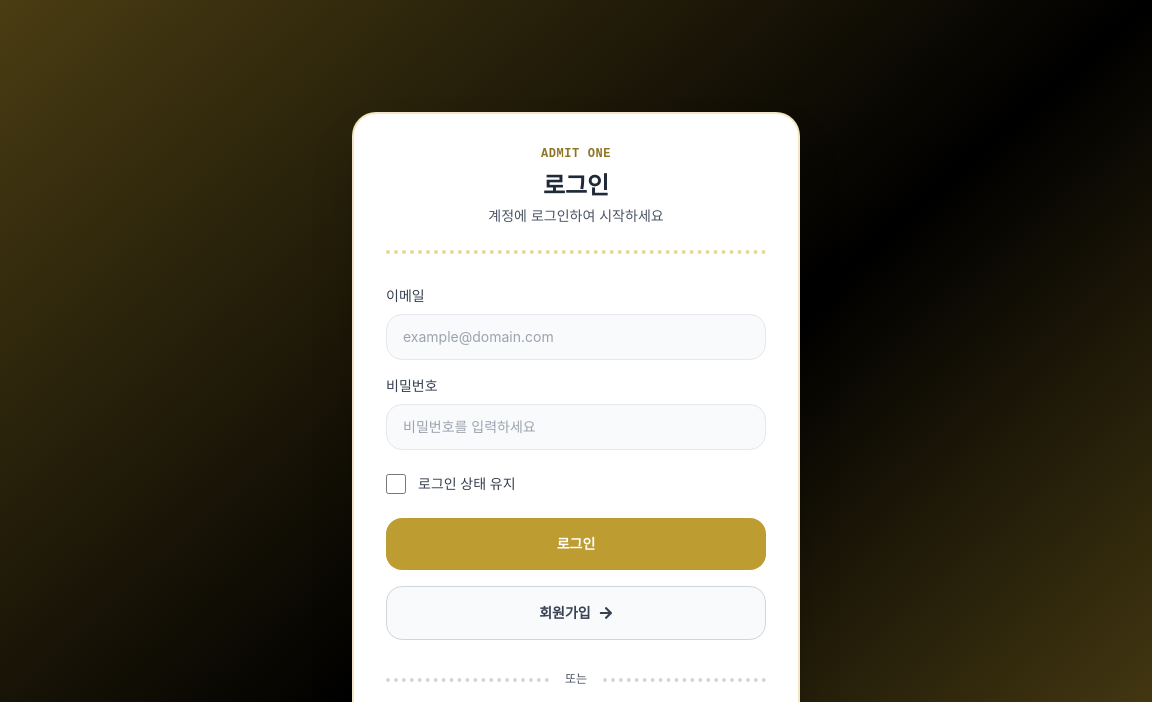
Scenario: LoginPage 컴포넌트 › 폼 기능 › 짧은 비밀번호에 대해 오류를 표시해야 한다
The image size is (1152, 702).
# 짧은 비밀번호 입력
Type "123" into the password field labelled "비밀번호". click: (576, 427)
box: [386,404,766,450]
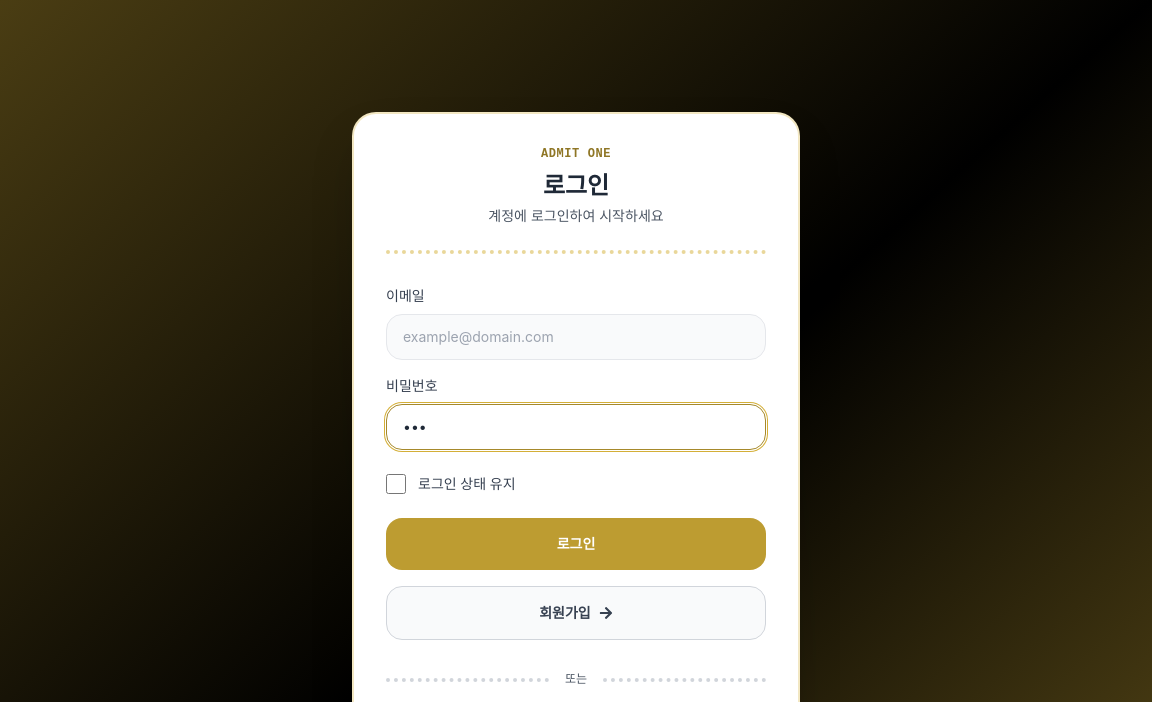
# 다른 필드로 이동하여 유효성 검사 트리거
Press Tab
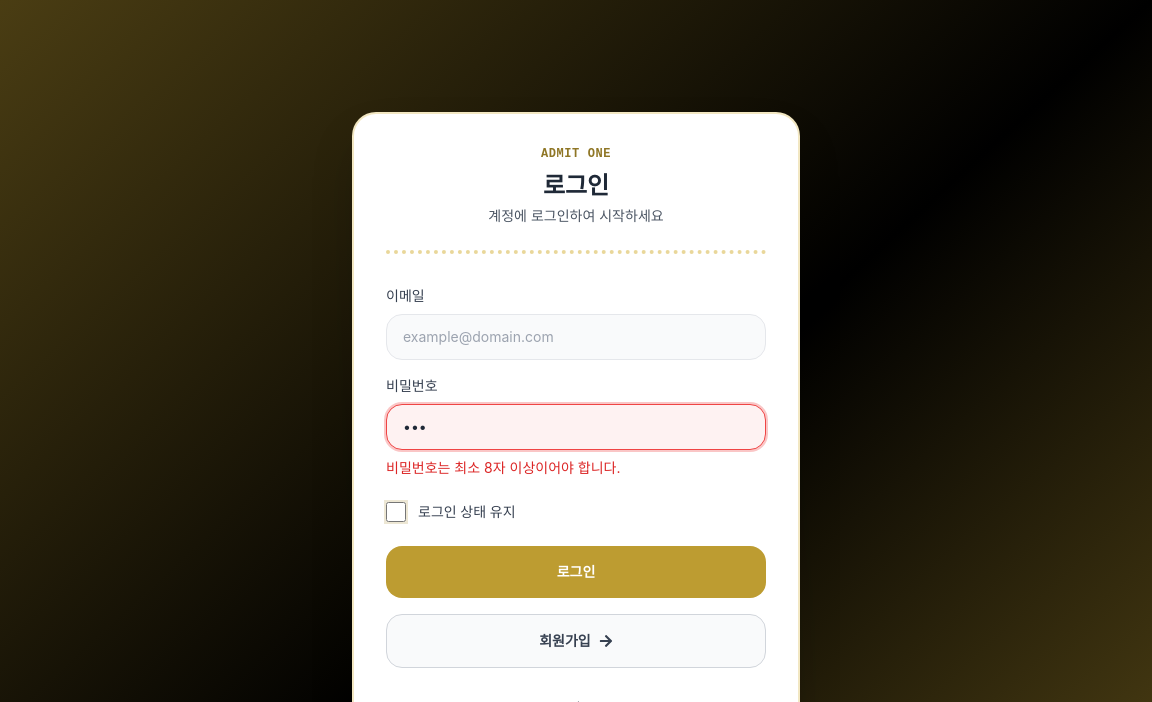
Now the text "비밀번호는 최소 8자 이상이어야 합니다." is shown, box [386,458,620,478]
